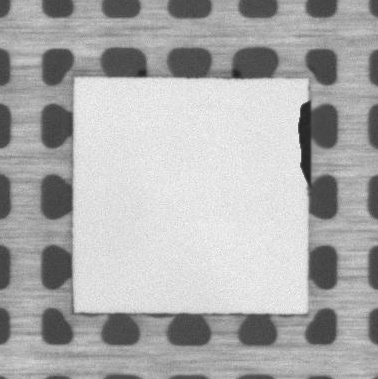DIE_BROKEN: (295, 99, 313, 189)
